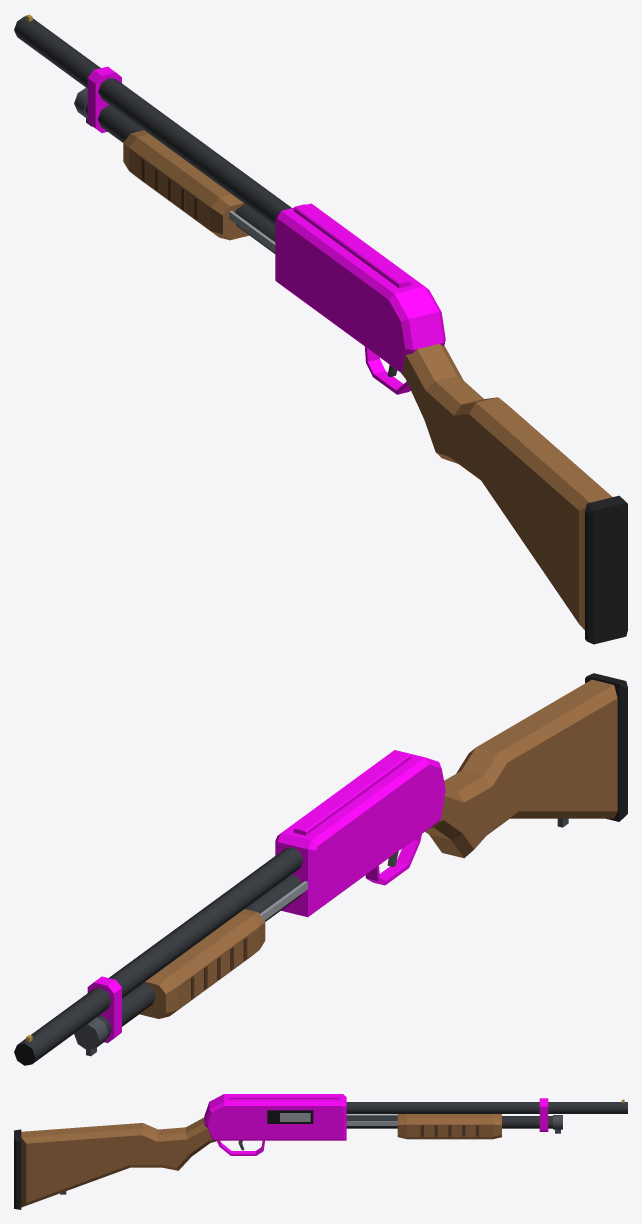
The model's file is shotgun_pump.glb.
3 views of the same model, one above another, from view 1: azimuth 30°, elevation 25°; view 2: azimuth 150°, elevation 25°; view 3: azimuth 270°, elevation 25° (orthographic). The views are drawn at different scales.
Visible parts, largest first — view 1: shotgun_pump__body, shotgun_pump__pump; view 2: shotgun_pump__body, shotgun_pump__pump; view 3: shotgun_pump__body, shotgun_pump__pump.
Boxes of the visible parts, box(x1,y1,x2,y2) form: shotgun_pump__body: box(14, 14, 627, 644); shotgun_pump__pump: box(123, 130, 275, 252); shotgun_pump__body: box(14, 673, 627, 1065); shotgun_pump__pump: box(140, 881, 307, 1018); shotgun_pump__body: box(14, 1094, 627, 1209); shotgun_pump__pump: box(346, 1114, 501, 1139).
Size of the model in its own units: 0.0492 by 0.198 by 1.
Materials: 1 (1 with a texture image).
